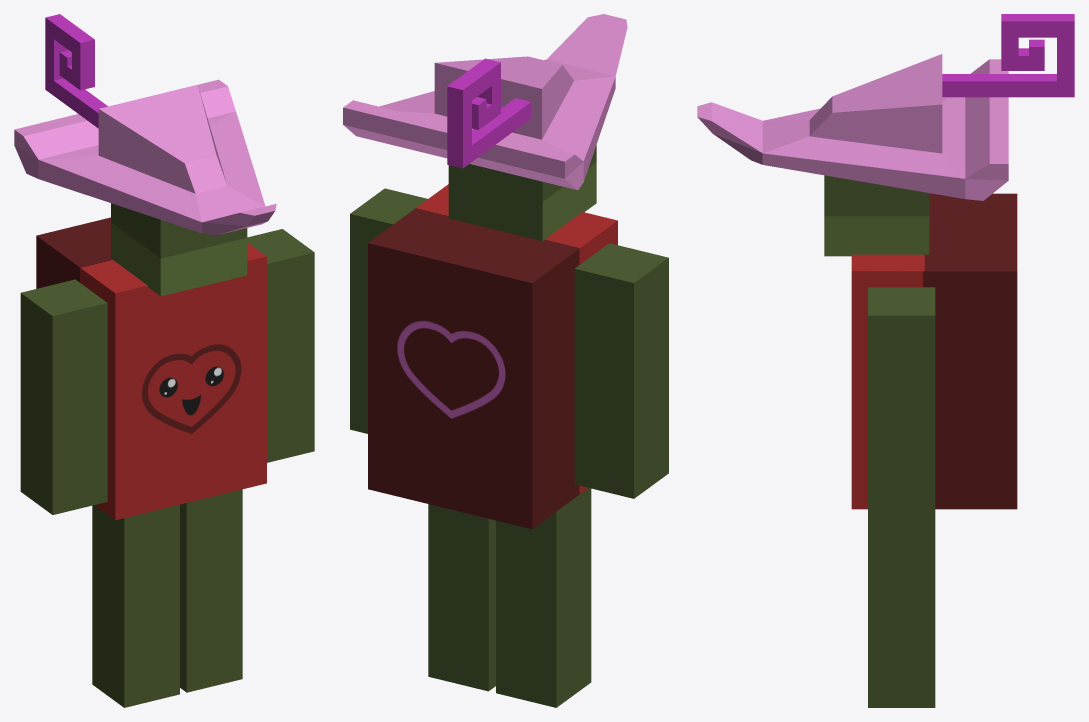
Rendered from GEO_PLAYER.fbx.
3 views of the same model, side by side, from view 1: azimuth 30°, elevation 25°; view 2: azimuth 150°, elevation 25°; view 3: azimuth 270°, elevation 25° (orthographic). The views are drawn at different scales.
Visible parts, largest first — view 1: GEO_PLAYER; view 2: GEO_PLAYER; view 3: GEO_PLAYER.
Part boxes in pixels (left/top/right/bottom): GEO_PLAYER: left=14, top=14, right=314, bottom=707; GEO_PLAYER: left=343, top=14, right=668, bottom=707; GEO_PLAYER: left=697, top=14, right=1074, bottom=707.
Size of the model in its own units: 1.33 by 2.97 by 1.58.
Materials: 1 (1 with a texture image).
